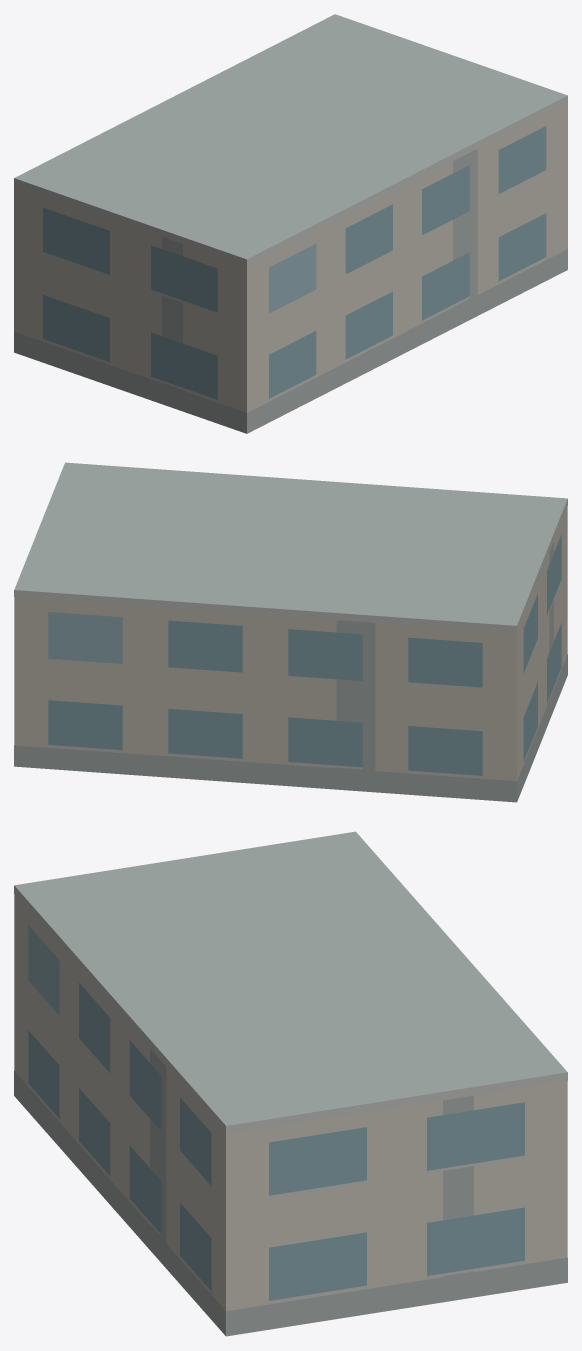
File: residential-f9939e41-1b58-4bf2-9ffe-87f1a4ca35da.glb
3 views of the same model, one above another, from view 1: azimuth 30°, elevation 25°; view 2: azimuth 150°, elevation 25°; view 3: azimuth 270°, elevation 25° (orthographic). The views are drawn at different scales.
Parts seen in each view (by area): view 1: residential-f9939e41-1b58-4bf2-9ffe-87f1a4ca35da.tmp; view 2: residential-f9939e41-1b58-4bf2-9ffe-87f1a4ca35da.tmp; view 3: residential-f9939e41-1b58-4bf2-9ffe-87f1a4ca35da.tmp.
Part boxes in pixels (<box>): residential-f9939e41-1b58-4bf2-9ffe-87f1a4ca35da.tmp: <box>14,14,567,433</box>; residential-f9939e41-1b58-4bf2-9ffe-87f1a4ca35da.tmp: <box>14,462,567,802</box>; residential-f9939e41-1b58-4bf2-9ffe-87f1a4ca35da.tmp: <box>14,831,567,1336</box>.
Bounding box in the file's own units: 18.01 × 6 × 14.32.
